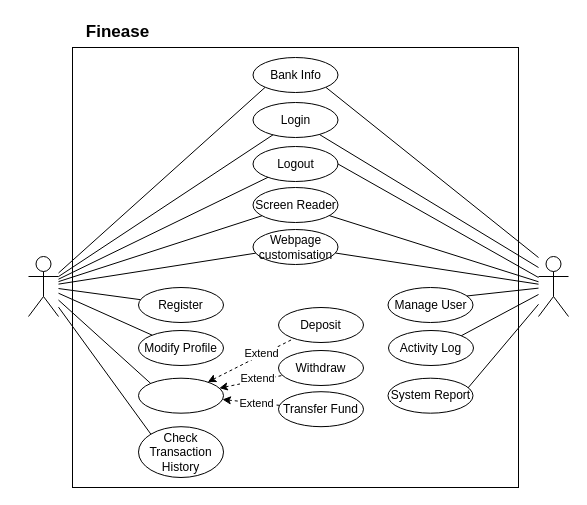
Image size: 587x505. Some labels were removed from this diagram. Each missing label, with the centre of its shape:
"Admin" goes at (x=553, y=286).
"Customer" goes at (x=43, y=286).
"Dashboard" goes at (x=181, y=395).
